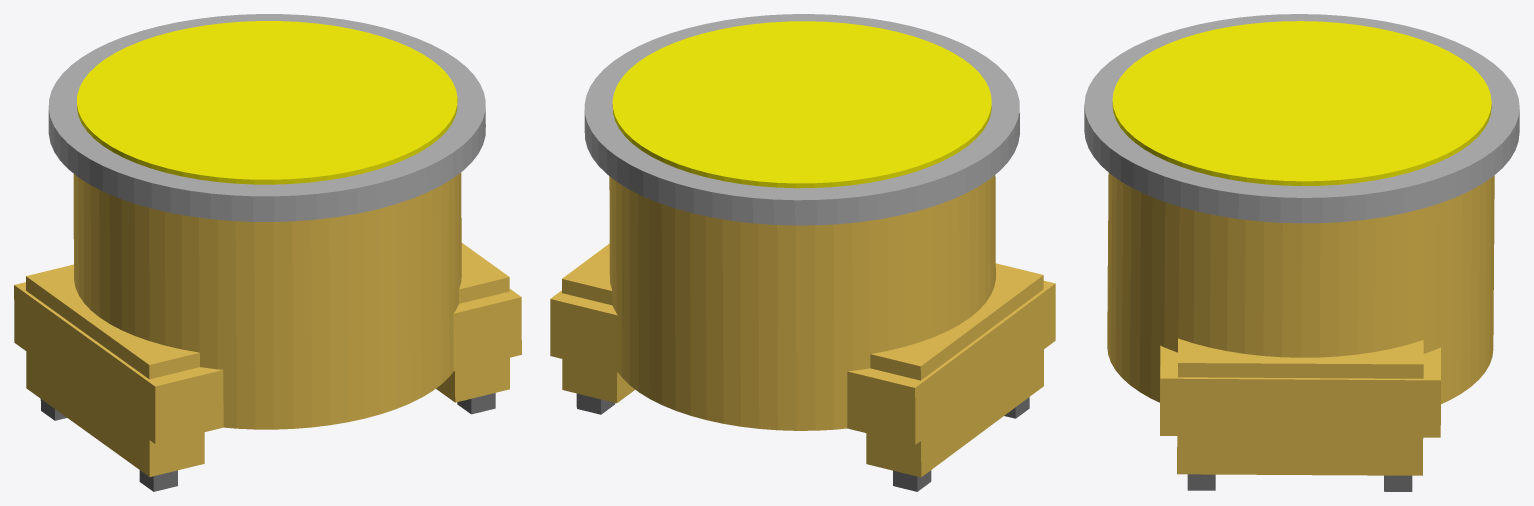
The model's file is defaultFluidTank.gltf.
3 renders of one model, left to right at view 1: azimuth 30°, elevation 25°; view 2: azimuth 150°, elevation 25°; view 3: azimuth 270°, elevation 25°, orthographic.
Visible parts, largest first — view 1: world; view 2: world; view 3: world.
Boxes of the visible parts, x1,y1,x2,y2 form: world: [14, 14, 521, 491]; world: [550, 14, 1055, 491]; world: [1084, 14, 1519, 491].
Bounding box in the file's own units: 1.24 × 0.9707 × 1.24.
